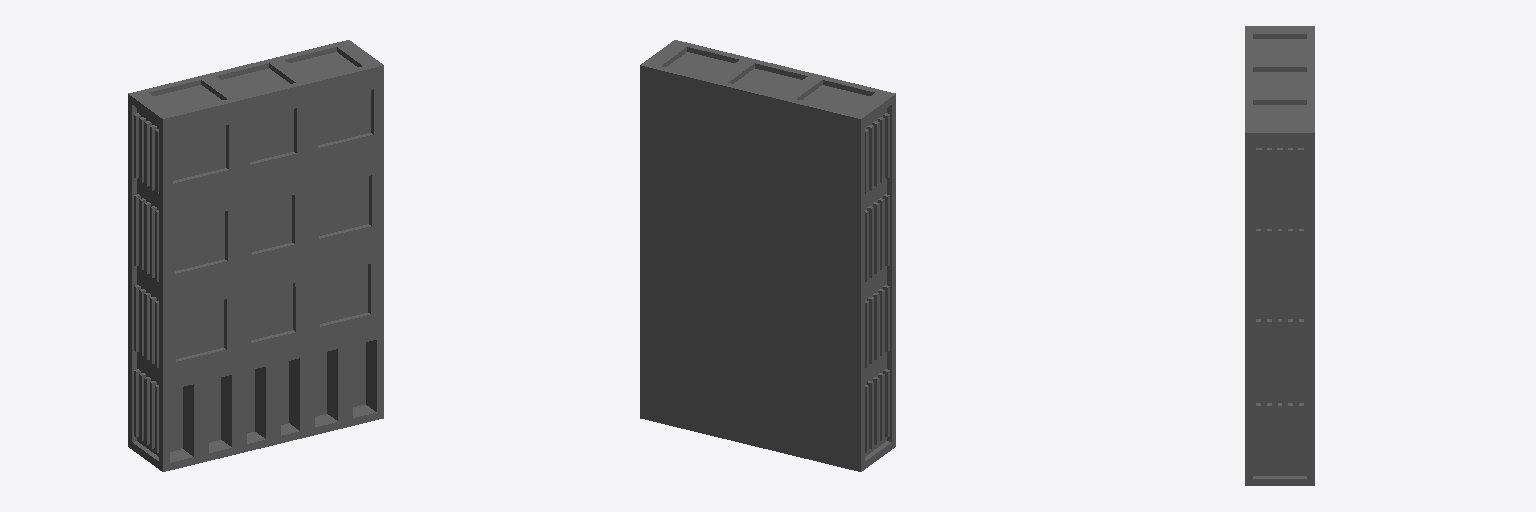
The model's file is apart.obj.
3 views of the same model, side by side, from view 1: azimuth 30°, elevation 25°; view 2: azimuth 150°, elevation 25°; view 3: azimuth 270°, elevation 25° (orthographic).
Parts seen in each view (by area): view 1: apart; view 2: apart; view 3: apart.
Boxes of the visible parts, x1,y1,x2,y2 form: apart: [128, 40, 383, 471]; apart: [640, 40, 895, 471]; apart: [1245, 26, 1314, 485].
Size of the model in its own units: 30.24 by 46.11 by 8.3.